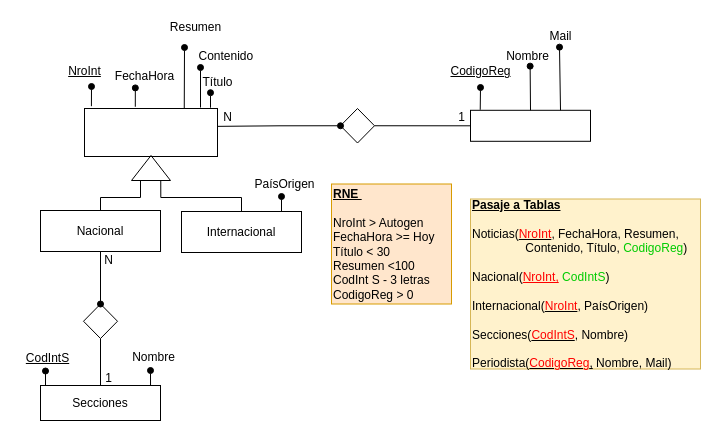
Some shapes in this 718 by 438 pixel diagram are drawn without their labels. Each missing label, with the centre of its shape:
Noticias: [151,132]
Periodista: [530,125]
